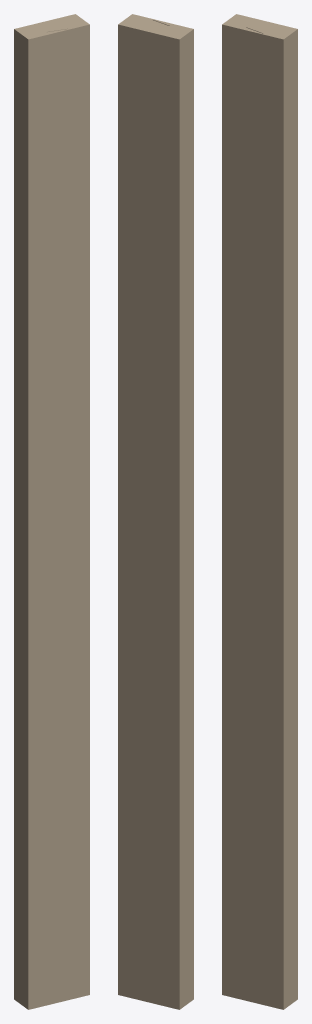
Rendered from T-CAPJIG-RL1.glb.
3 renders of one model, left to right at view 1: azimuth 30°, elevation 25°; view 2: azimuth 150°, elevation 25°; view 3: azimuth 330°, elevation 25°, orthographic.
Parts seen in each view (by area): view 1: geometry_0; view 2: geometry_0; view 3: geometry_0.
Boxes of the visible parts, x1,y1,x2,y2 form: geometry_0: (14,14,89,1009); geometry_0: (118,14,193,1009); geometry_0: (222,14,297,1009).
Size of the model in its own units: 130 by 1960 by 52.49.
